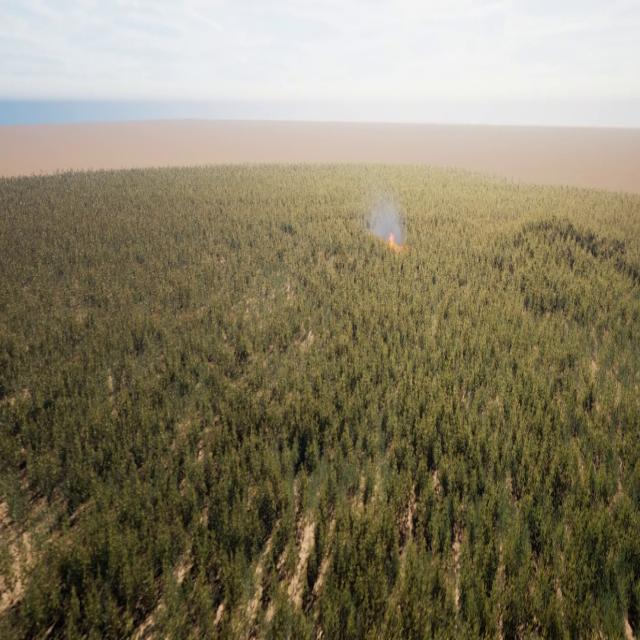fire: (388, 225, 399, 250)
smoke: (372, 187, 406, 254)
